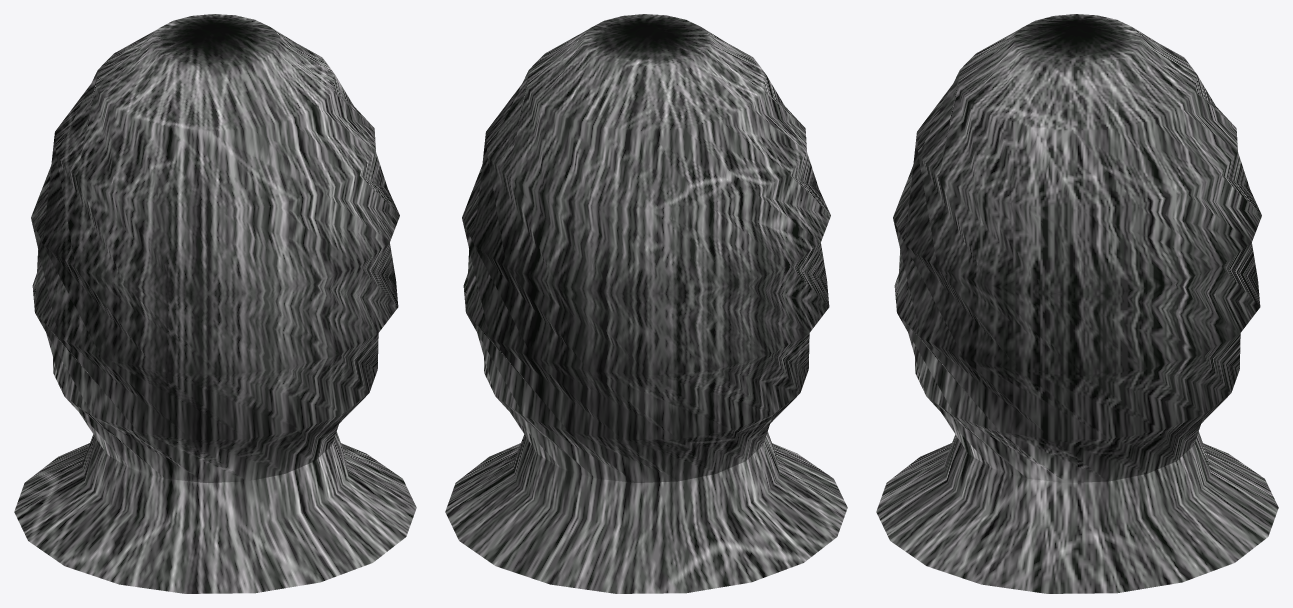
File: INST_EGGSACK_DESTRUCT.fbx
The picture shows the model from 3 angles, left to right: view 1: azimuth 30°, elevation 25°; view 2: azimuth 150°, elevation 25°; view 3: azimuth 270°, elevation 25°; orthographic projection.
Parts seen in each view (by area): view 1: INST_EGGSACK_DESTRUCT; view 2: INST_EGGSACK_DESTRUCT; view 3: INST_EGGSACK_DESTRUCT.
Boxes of the visible parts, x1,y1,x2,y2 form: INST_EGGSACK_DESTRUCT: (14, 14, 416, 593); INST_EGGSACK_DESTRUCT: (445, 14, 847, 593); INST_EGGSACK_DESTRUCT: (876, 14, 1278, 593).
Size of the model in its own units: 6121 by 8185 by 6188.
Materials: 4 (4 with a texture image).
